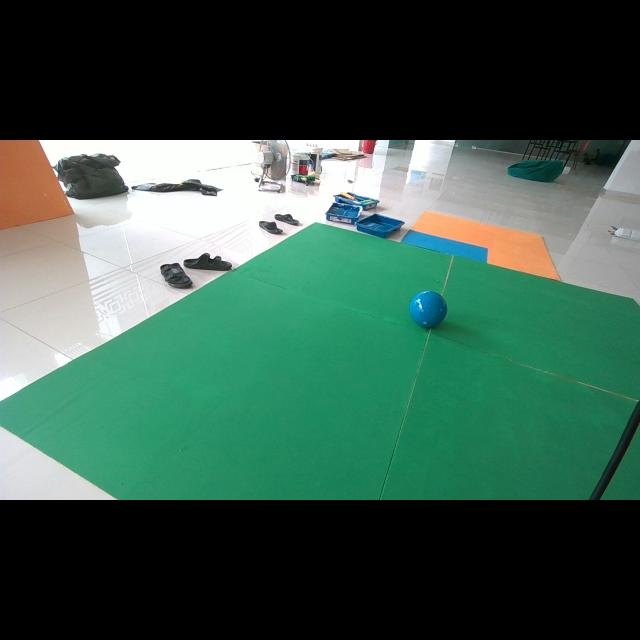B: (409, 290, 448, 327)
